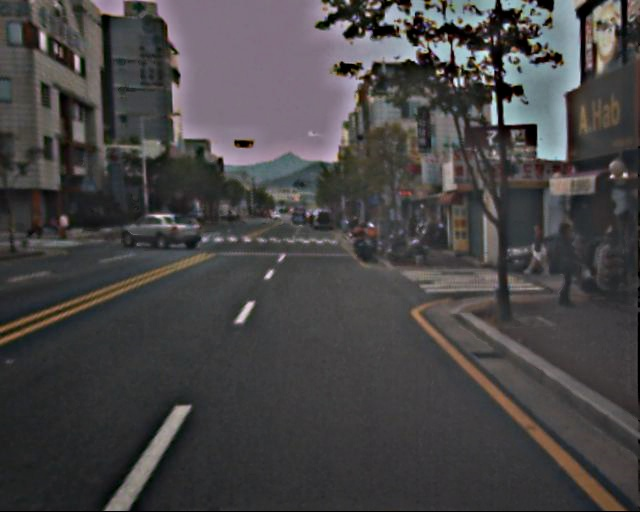person: (546, 222, 585, 308), (527, 221, 551, 278)
